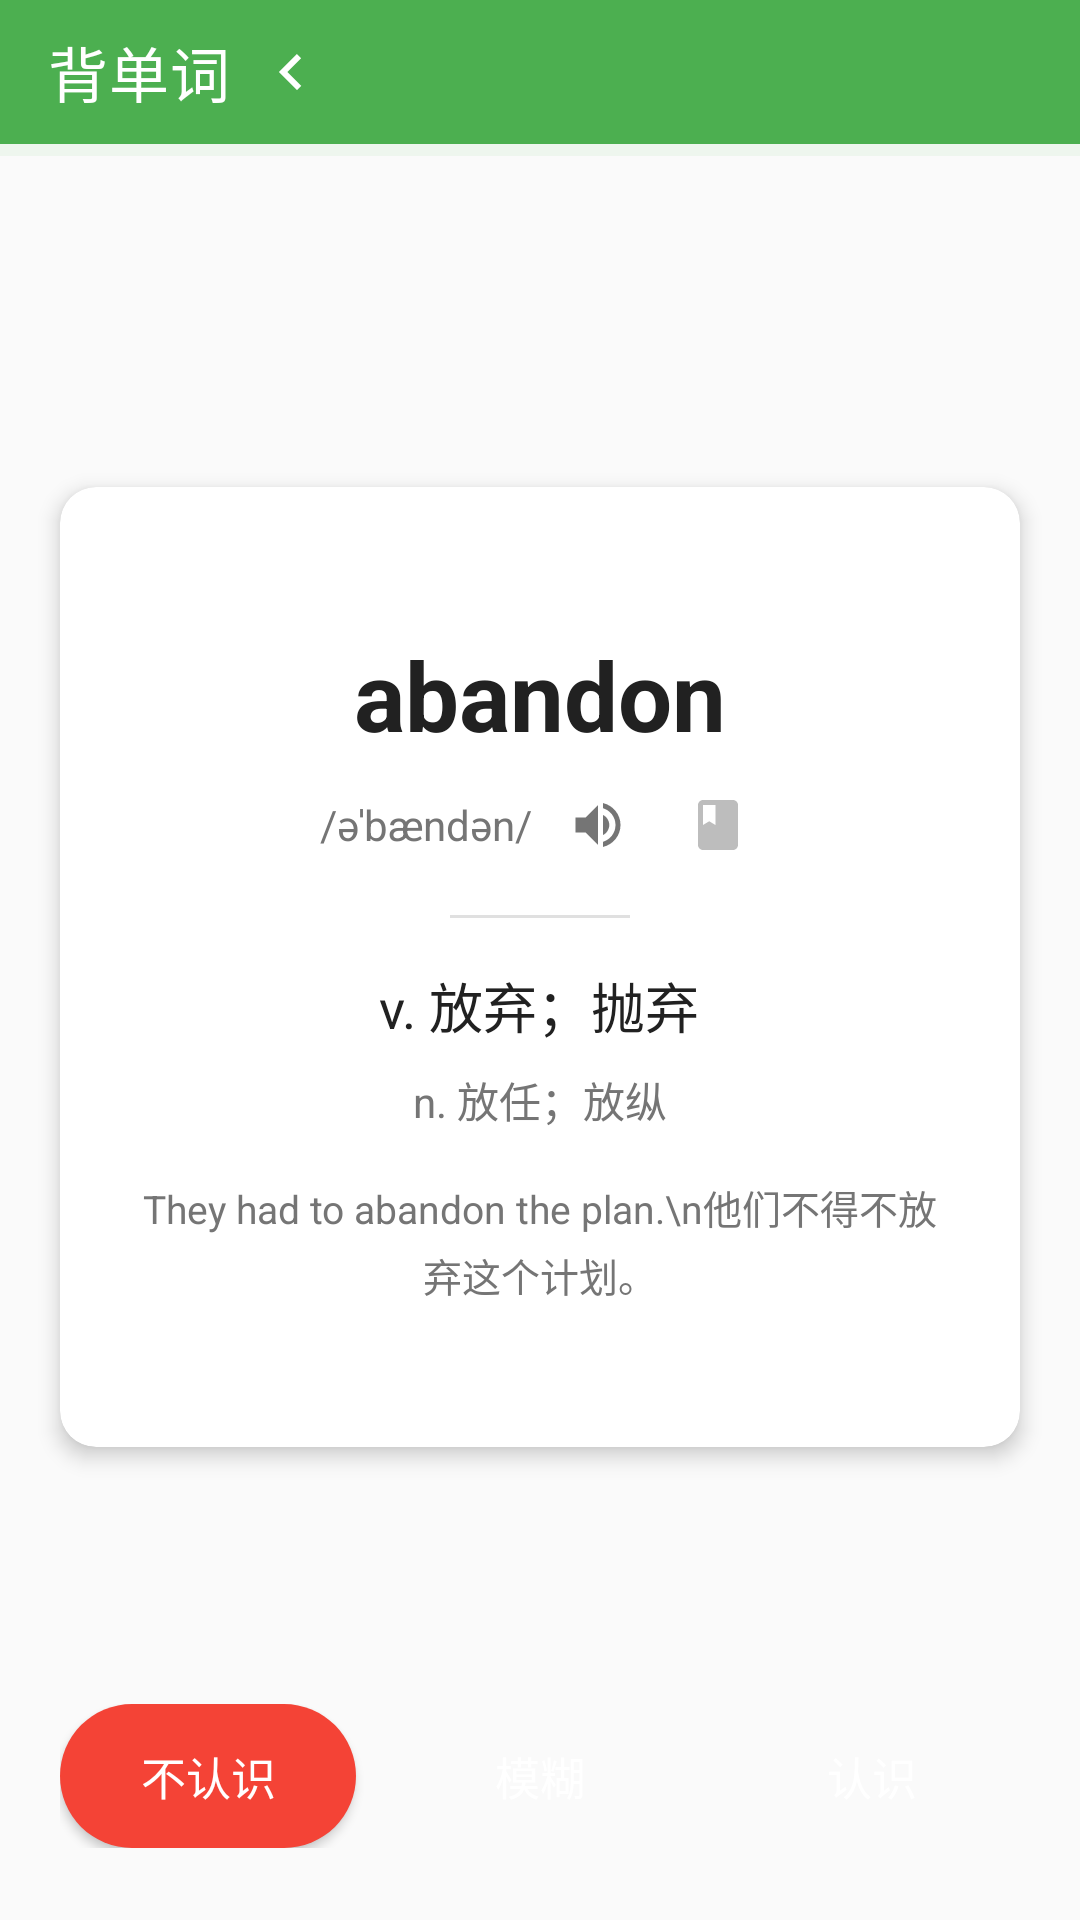

Icons on this 1080 x 1920 Android screen, each with the point to tap as (x=x, y=y):
book: (x=718, y=825)
volume up: (x=598, y=825)
